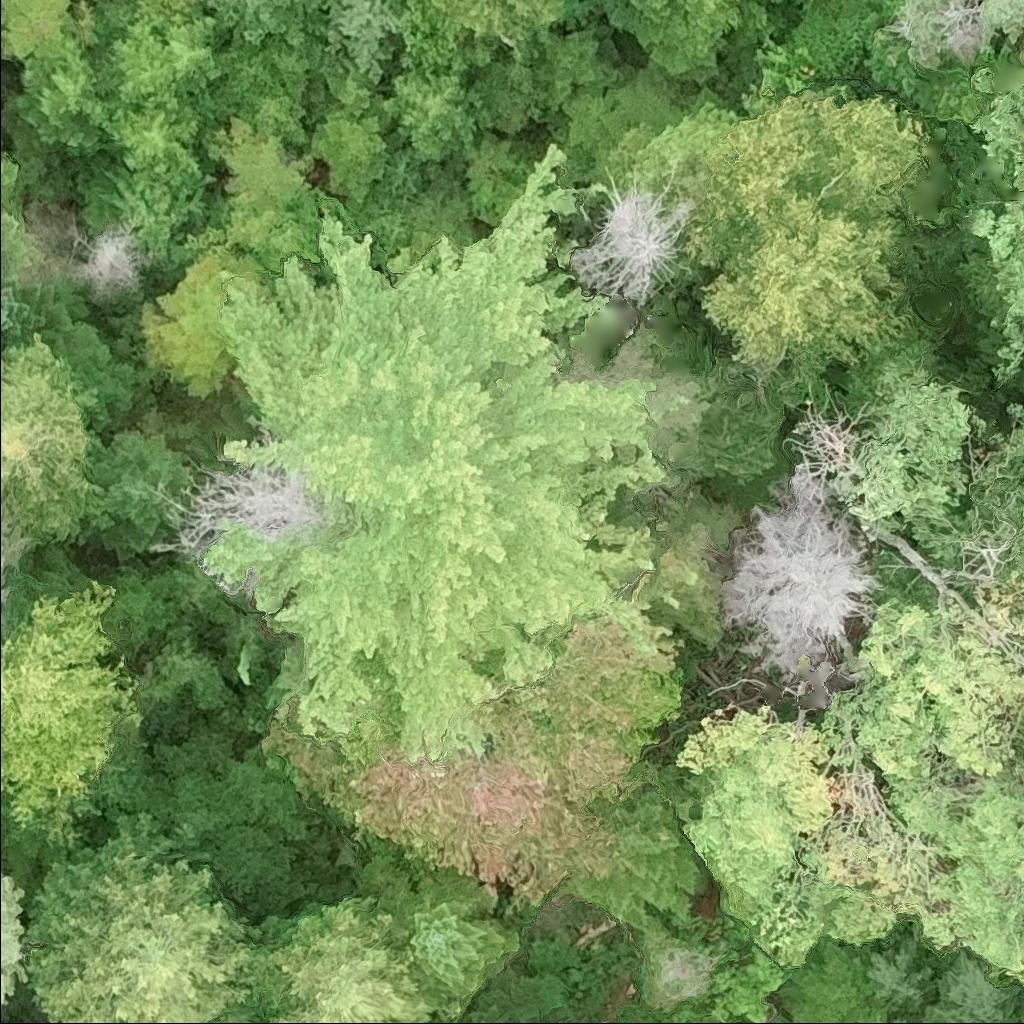crown: (198, 141, 707, 766), (254, 616, 689, 920), (670, 700, 959, 971), (682, 88, 934, 386), (22, 810, 268, 1023), (824, 574, 1023, 791), (0, 576, 147, 846), (882, 721, 1023, 995), (722, 469, 877, 702), (23, 6, 218, 172), (357, 853, 520, 1023), (251, 893, 448, 1023), (846, 351, 986, 530), (0, 332, 107, 554), (553, 783, 707, 931), (136, 247, 272, 402), (568, 159, 695, 307), (968, 70, 1023, 386), (85, 423, 194, 561), (793, 408, 878, 541), (401, 0, 575, 64), (530, 23, 630, 120), (310, 109, 397, 212), (63, 220, 152, 304), (135, 639, 234, 712), (0, 271, 89, 345), (993, 395, 1023, 578), (0, 497, 38, 634), (0, 0, 82, 62), (599, 0, 682, 58), (0, 874, 30, 1007), (459, 967, 525, 1023), (211, 0, 293, 45), (0, 153, 35, 254), (134, 0, 211, 17), (769, 0, 822, 6)
